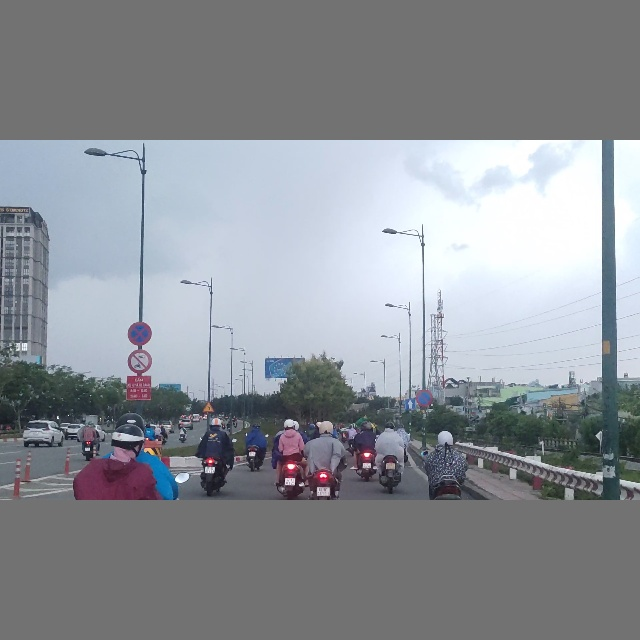I.407a: (405, 399, 414, 409)
P.111: (128, 349, 152, 373)
P.130: (128, 322, 152, 345)
P.131a: (415, 389, 433, 407)
W.201a: (202, 401, 214, 412)
